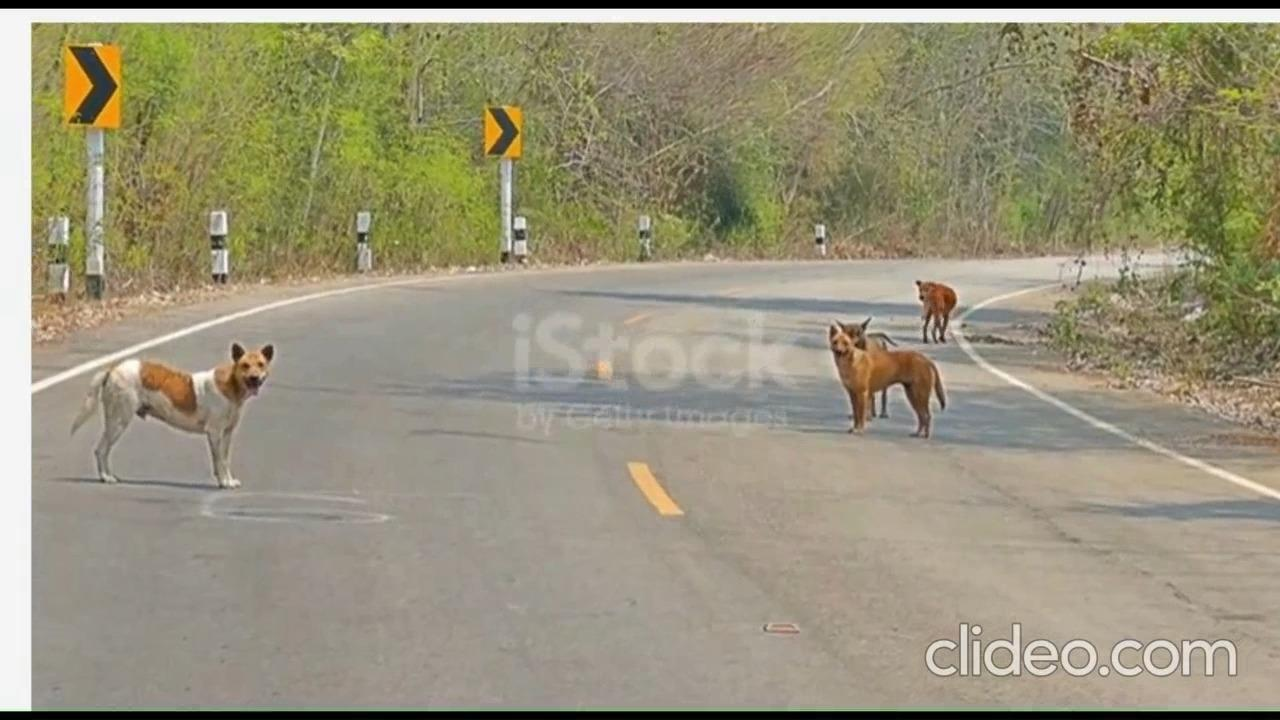dog: (77, 339, 273, 499), (813, 325, 937, 440), (914, 273, 962, 342)
